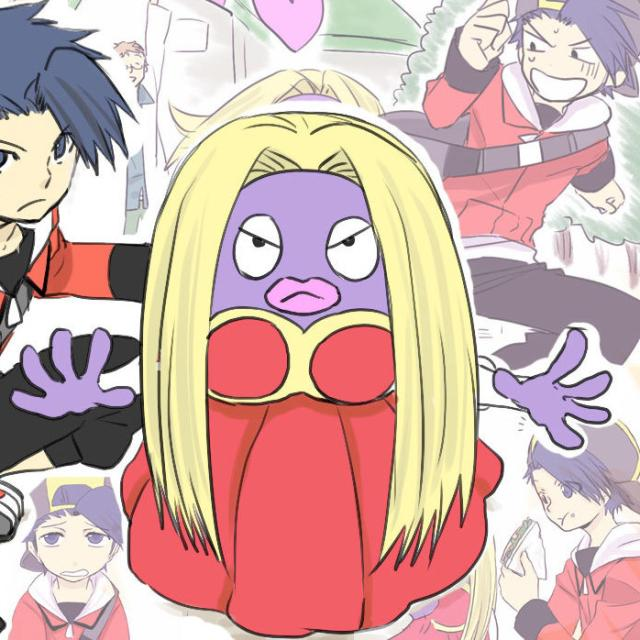Jynx: (136, 114, 465, 624)
